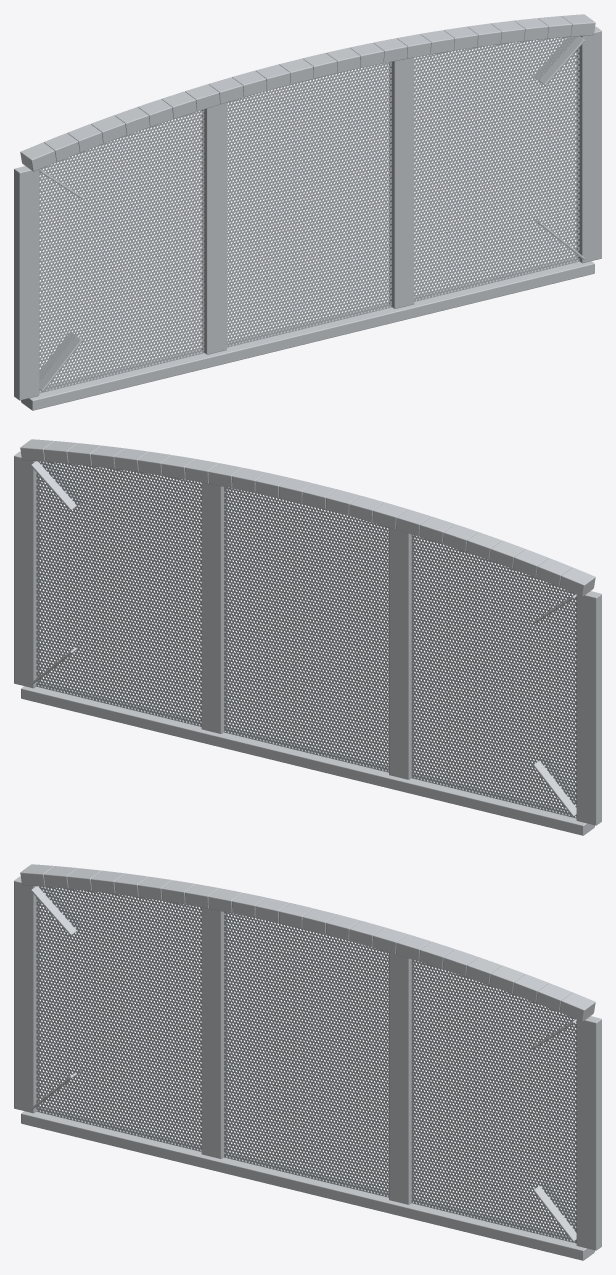
3 renders of one model, top to bottom at view 1: azimuth 30°, elevation 25°; view 2: azimuth 150°, elevation 25°; view 3: azimuth 330°, elevation 25°, orthographic.
Visible parts, largest first — view 1: K4_-1 blacha, K4_-1 dolny, K4_-1 pion.003, K4_-1 pion, K4_-1 pion.002, K4_-1 pion.001, K4_-1 skos dol, K4_-1 gorny, K4_-1 skos gora.001, K4_-1 gorny.001, K4_-1 gorny.002, K4_-1 gorny.003 (+20 smaller); view 2: K4_-1 blacha, K4_-1 dolny, K4_-1 pion.003, K4_-1 pion, K4_-1 pion.002, K4_-1 pion.001, K4_-1 skos dol, K4_-1 gorny, K4_-1 skos gora.001, K4_-1 gorny.001, K4_-1 gorny.002, K4_-1 gorny.003 (+20 smaller); view 3: K4_-1 blacha, K4_-1 dolny, K4_-1 pion.002, K4_-1 pion.001, K4_-1 pion.003, K4_-1 pion, K4_-1 skos dol.001, K4_-1 gorny.023, K4_-1 skos gora, K4_-1 gorny.022, K4_-1 gorny.021, K4_-1 gorny.020 (+20 smaller).
Part boxes in pixels (bbox=[...]): K4_-1 blacha: bbox=[39, 36, 579, 393]; K4_-1 dolny: bbox=[21, 257, 594, 410]; K4_-1 pion.003: bbox=[389, 57, 414, 308]; K4_-1 pion: bbox=[14, 166, 39, 400]; K4_-1 pion.002: bbox=[201, 102, 226, 354]; K4_-1 pion.001: bbox=[576, 26, 601, 263]; K4_-1 skos dol: bbox=[39, 332, 82, 391]; K4_-1 gorny: bbox=[20, 142, 56, 171]; K4_-1 skos gora.001: bbox=[533, 36, 584, 85]; K4_-1 gorny.001: bbox=[44, 133, 79, 161]; K4_-1 gorny.002: bbox=[67, 124, 103, 152]; K4_-1 gorny.003: bbox=[91, 115, 126, 143]; K4_-1 blacha: bbox=[36, 461, 576, 818]; K4_-1 dolny: bbox=[21, 682, 594, 835]; K4_-1 pion.003: bbox=[201, 482, 226, 733]; K4_-1 pion: bbox=[576, 591, 601, 825]; K4_-1 pion.002: bbox=[389, 527, 414, 779]; K4_-1 pion.001: bbox=[14, 451, 39, 688]; K4_-1 skos dol: bbox=[533, 757, 576, 816]; K4_-1 gorny: bbox=[559, 567, 595, 596]; K4_-1 skos gora.001: bbox=[31, 461, 82, 510]; K4_-1 gorny.001: bbox=[536, 558, 571, 586]; K4_-1 gorny.002: bbox=[512, 549, 548, 577]; K4_-1 gorny.003: bbox=[489, 540, 524, 568]; K4_-1 blacha: bbox=[36, 886, 588, 1243]; K4_-1 dolny: bbox=[21, 1107, 594, 1260]; K4_-1 pion.002: bbox=[201, 907, 226, 1158]; K4_-1 pion.001: bbox=[576, 1016, 601, 1250]; K4_-1 pion.003: bbox=[389, 952, 414, 1204]; K4_-1 pion: bbox=[14, 876, 39, 1113]; K4_-1 skos dol.001: bbox=[533, 1181, 576, 1241]; K4_-1 gorny.023: bbox=[559, 992, 595, 1021]; K4_-1 skos gora: bbox=[31, 886, 81, 935]; K4_-1 gorny.022: bbox=[536, 983, 571, 1011]; K4_-1 gorny.021: bbox=[512, 974, 548, 1002]; K4_-1 gorny.020: bbox=[489, 965, 524, 993].
Bounding box in the file's own units: 1.45 × 0.656 × 0.05.
2 materials, 1 textured.
